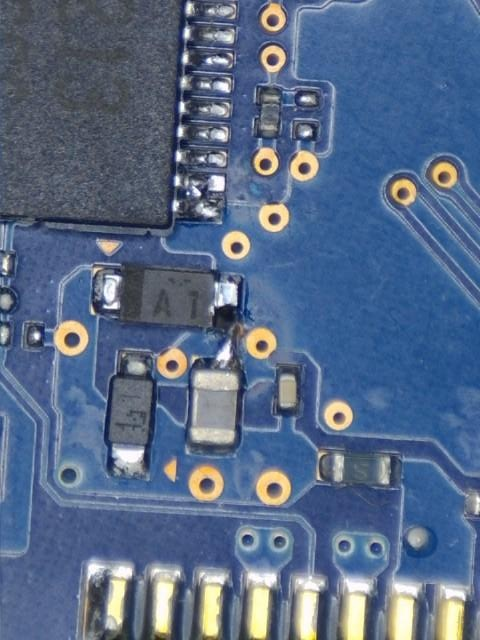pcb_defect: (191, 281, 241, 391), (172, 173, 224, 221)
